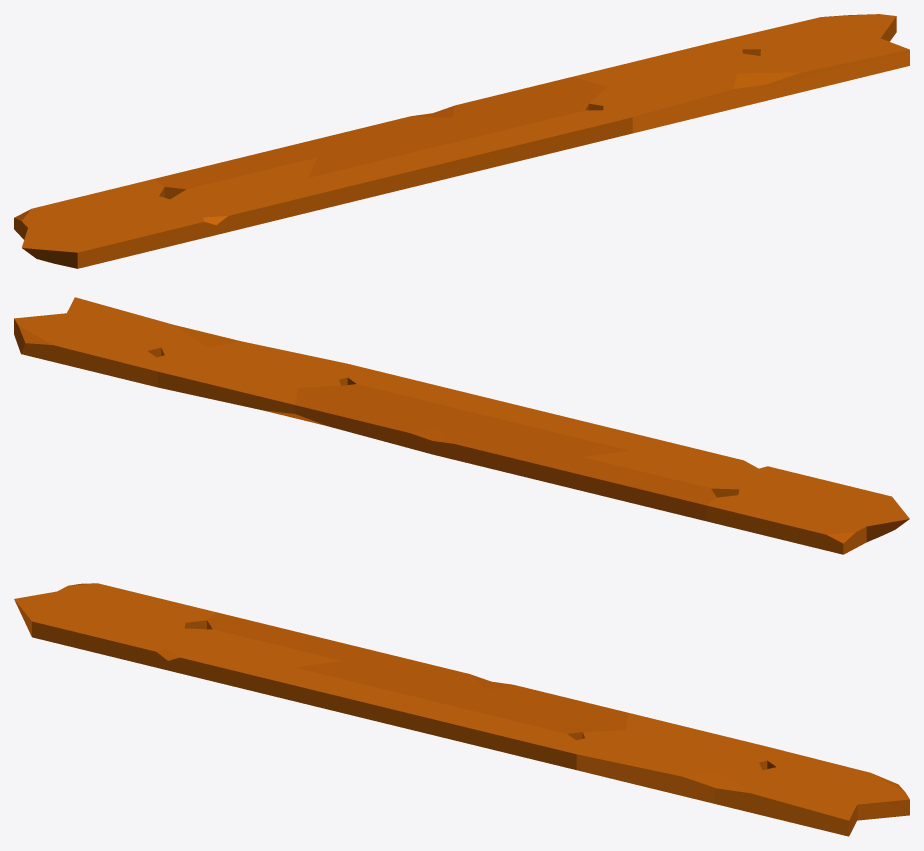
Rendered from Rotten wood_13.fbx.
3 renders of one model, top to bottom at view 1: azimuth 30°, elevation 25°; view 2: azimuth 150°, elevation 25°; view 3: azimuth 330°, elevation 25°, orthographic.
Visible parts, largest first — view 1: Cube.108; view 2: Cube.108; view 3: Cube.108.
Boxes of the visible parts, left/top/right/bottom form: Cube.108: left=14, top=14, right=909, bottom=268; Cube.108: left=14, top=297, right=909, bottom=554; Cube.108: left=14, top=583, right=909, bottom=836.
Size of the model in its own units: 119 by 2.07 by 13.07.
